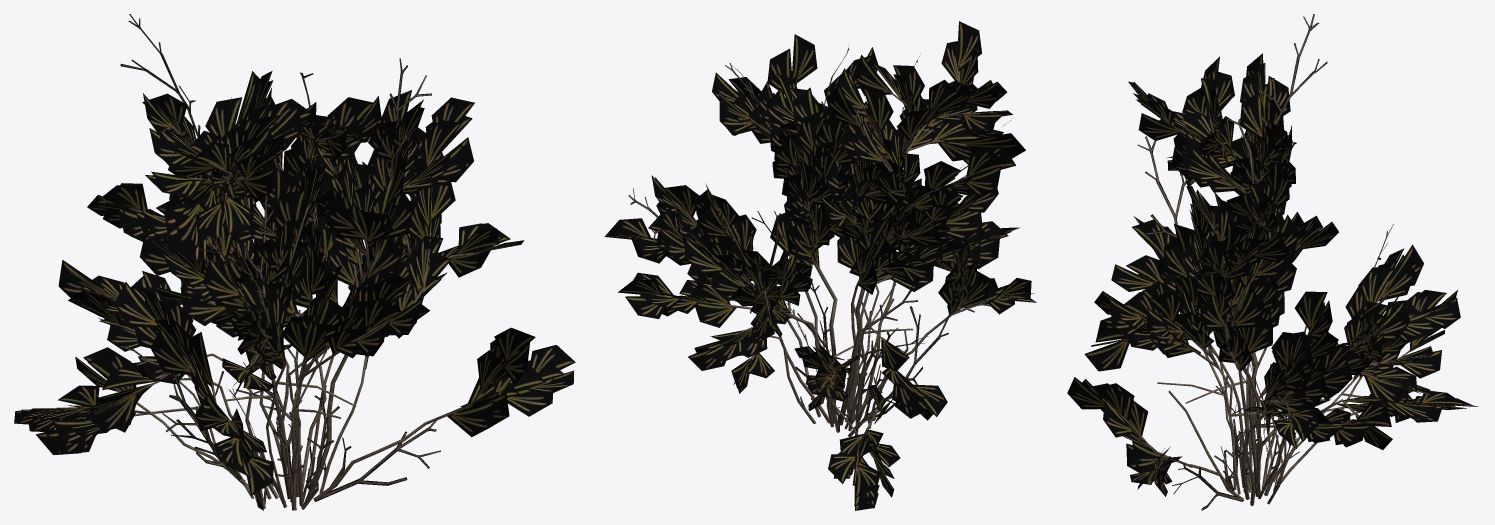
The model's file is nat-scrub-b.glb.
3 views of the same model, side by side, from view 1: azimuth 30°, elevation 25°; view 2: azimuth 150°, elevation 25°; view 3: azimuth 270°, elevation 25° (orthographic). The views are drawn at different scales.
Visible parts, largest first — view 1: wild_rooibos_bush_b; view 2: wild_rooibos_bush_b; view 3: wild_rooibos_bush_b.
Boxes of the visible parts, box(x1,y1,x2,y2) form: wild_rooibos_bush_b: box(14, 14, 575, 510); wild_rooibos_bush_b: box(604, 21, 1036, 510); wild_rooibos_bush_b: box(1067, 14, 1478, 510).
Bounding box in the file's own units: 0.5244 × 0.5413 × 0.4747.
Materials: 2 (2 with a texture image).
